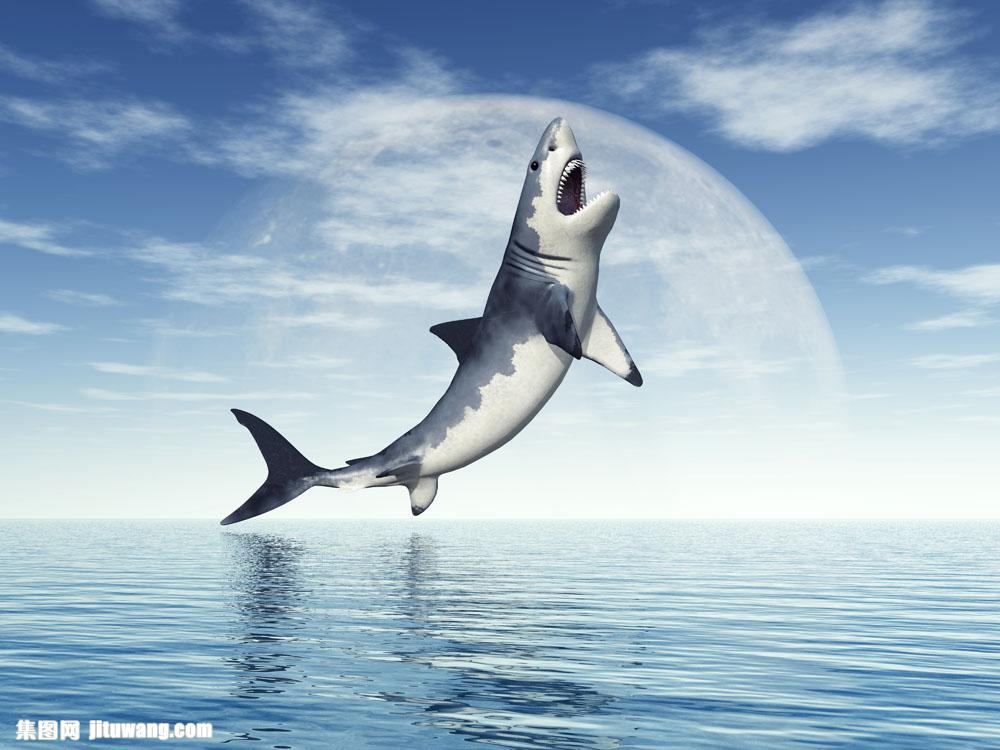fish: (217, 111, 650, 527)
